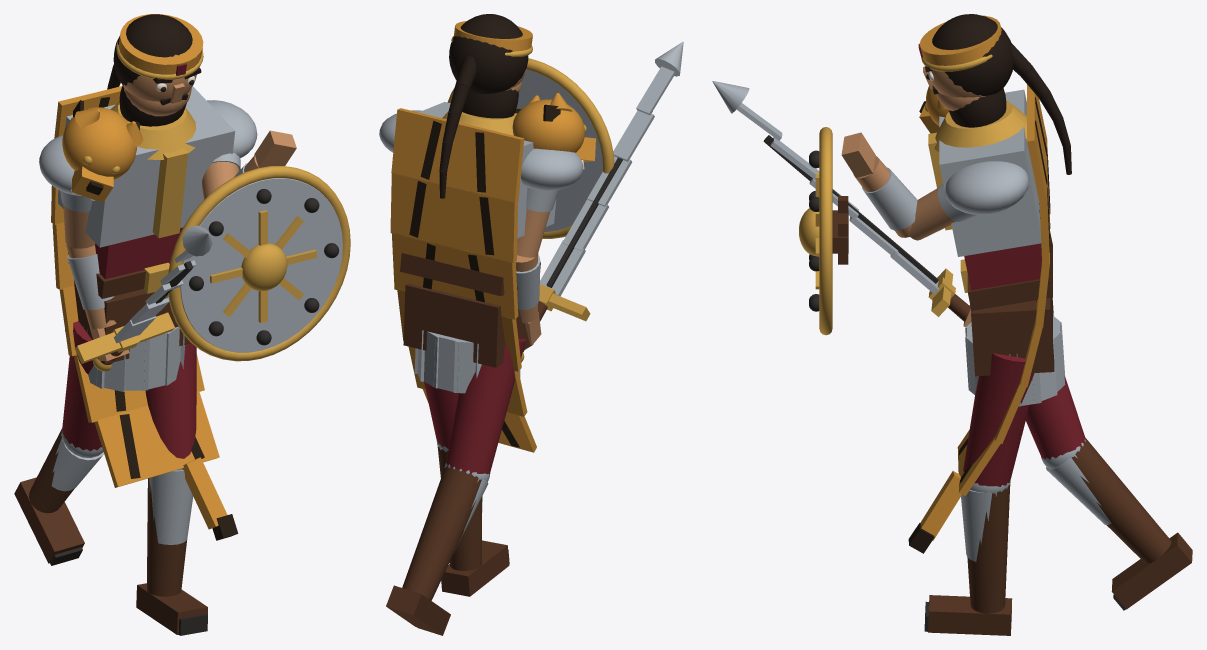
Rendered from tariel.glb.
3 views of the same model, side by side, from view 1: azimuth 30°, elevation 25°; view 2: azimuth 150°, elevation 25°; view 3: azimuth 270°, elevation 25° (orthographic). The views are drawn at different scales.
Visible parts, largest first — view 1: shield_face, cuirass, shield_rim, cape_5, shield, tiger_skull, thigh_r, hair, greave_r, boot_l, torso_lower, shin_r (+38 smaller); view 2: cape_0, cape_1, pelvis, thigh_l, shin_l, hair, cape_2, shield_face, tiger_skull, pauldron_l, belt, shield_rim (+33 smaller); view 3: cuirass, thigh_r, pelvis, shin_l, hair, shin_r, pauldron_r, thigh_l, shield_rim, boot_r, torso_lower, boot_l (+16 smaller).
Part boxes in pixels (<box>): shield_face: <box>180,178,342,352</box>; cuirass: <box>58,86,235,247</box>; shield_rim: <box>168,166,350,361</box>; cape_5: <box>94,391,219,487</box>; shield: <box>189,189,339,345</box>; tiger_skull: <box>62,107,136,179</box>; thigh_r: <box>145,343,196,458</box>; hair: <box>113,14,192,85</box>; greave_r: <box>149,470,193,544</box>; boot_l: <box>14,477,84,563</box>; torso_lower: <box>95,227,183,279</box>; shin_r: <box>147,478,187,596</box>; cape_0: <box>391,108,524,202</box>; cape_1: <box>390,172,518,262</box>; pelvis: <box>403,283,533,367</box>; thigh_l: <box>446,338,525,474</box>; shin_l: <box>402,466,481,600</box>; hair: <box>449,14,528,93</box>; cape_2: <box>391,232,518,319</box>; shield_face: <box>516,69,602,231</box>; tiger_skull: <box>512,99,584,152</box>; pauldron_l: <box>521,148,583,190</box>; belt: <box>400,253,540,296</box>; shield_rim: <box>447,58,614,238</box>; cuirass: <box>939,89,1041,256</box>; thigh_r: <box>963,353,1034,486</box>; pelvis: <box>971,297,1054,376</box>; shin_l: <box>1072,438,1171,563</box>; hair: <box>932,14,1013,95</box>; shin_r: <box>967,484,1010,613</box>; pauldron_r: <box>945,161,1028,214</box>; thigh_l: <box>1025,376,1085,459</box>; shield_rim: <box>819,127,832,335</box>; boot_r: <box>928,595,1012,635</box>; torso_lower: <box>964,243,1041,290</box>; boot_l: <box>1111,532,1192,609</box>.
Size of the model in its own units: 0.7459 by 1.93 by 1.39.
